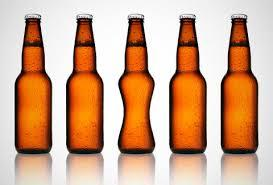Glass bottle: (9, 7, 270, 169)
